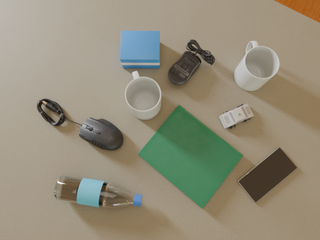book: (138, 105, 243, 208)
bottle: (54, 175, 142, 208)
box: (120, 31, 160, 68)
cup: (234, 41, 279, 91), (125, 71, 161, 120)
mouse: (168, 40, 215, 85), (79, 118, 123, 150)
phone: (238, 147, 297, 203)
toy_car: (219, 104, 254, 129)
